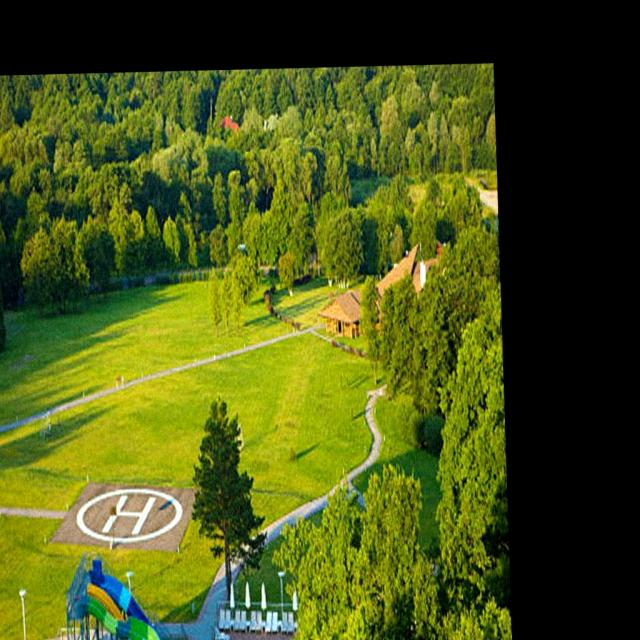helipad: (74, 482, 185, 546)
